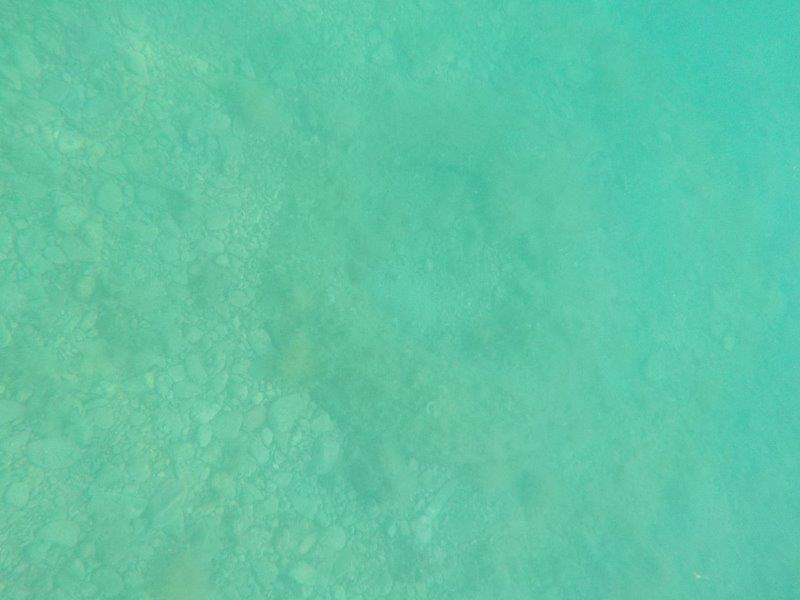tire: (261, 95, 638, 478)
